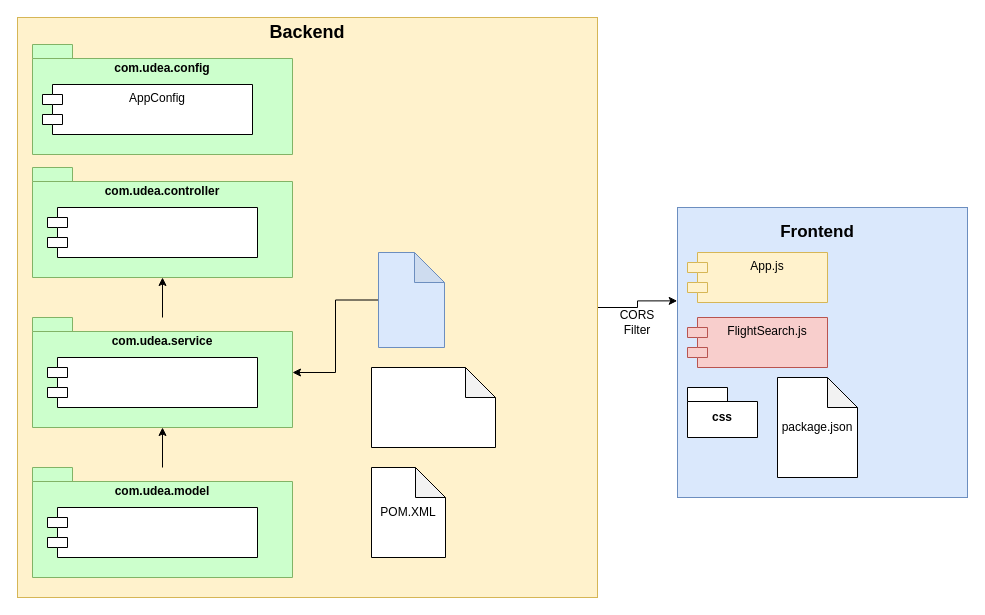
Image size: 985x615. Some labels were removed from this diagram. The centre of each missing label's shape, as x and y in pixels:
"<<CRUD>> Flight" belongs at point (152, 532).
"application.properties" belongs at point (433, 407).
"FlightController" belongs at point (152, 232).
"flights.json" belongs at point (411, 300).
"FlightService" belongs at point (152, 382).
